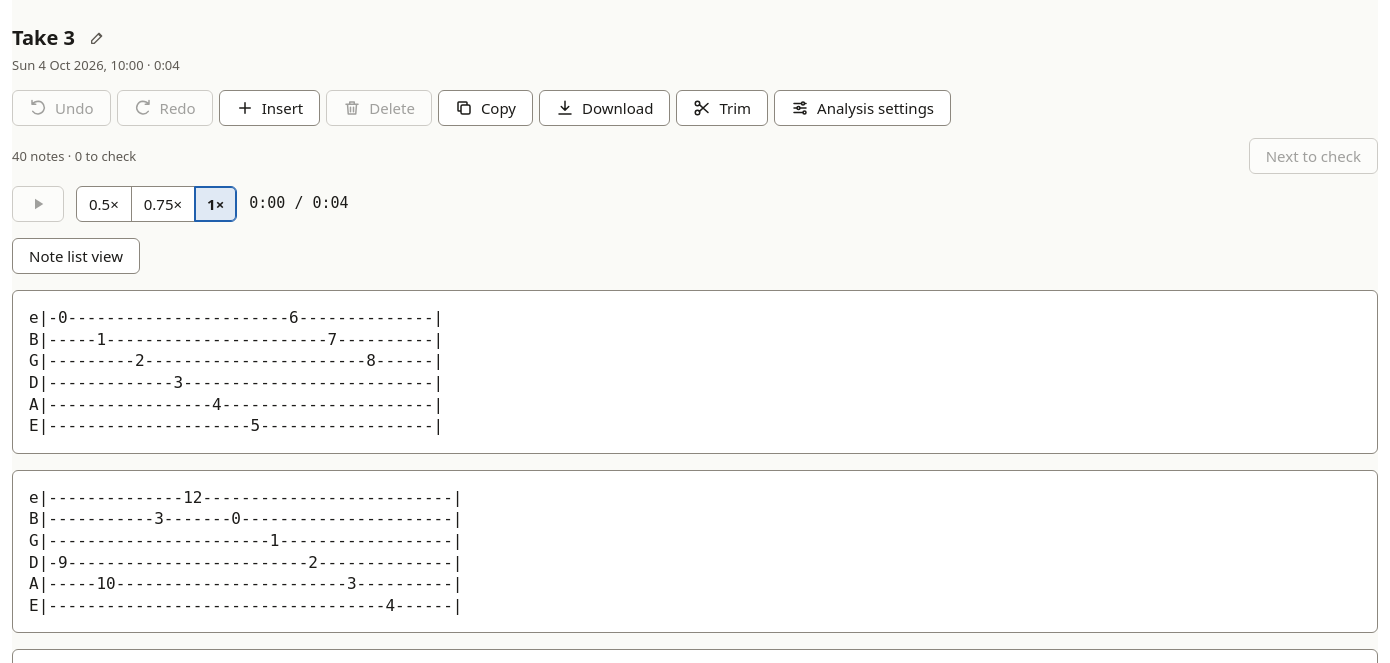
Test: Tab screen tab area, header and selection › analysis settings and re-analysis › shows the take settings, and settings a restore brings
The width and height of the screenshot is (1390, 663).
Click the button "Analysis settings": (863, 108) top-left (774, 90), bottom-right (951, 126)
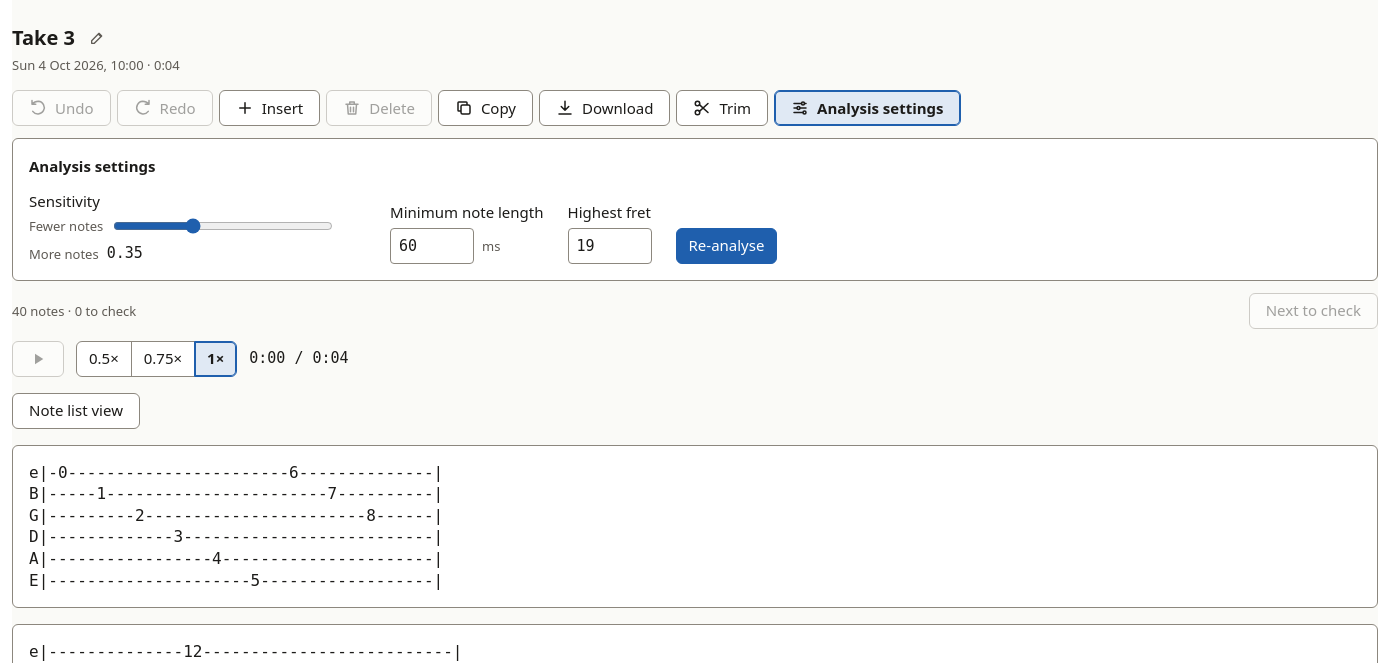
expect the slider labelled "Sensitivity" holds "0.35": met, box top-left (113, 218), bottom-right (333, 234)
expect the text "0.35" is shown: met, box top-left (107, 244), bottom-right (143, 264)
expect the number field labelled "Minimum note length" holds "60": met, box top-left (390, 228), bottom-right (474, 264)
